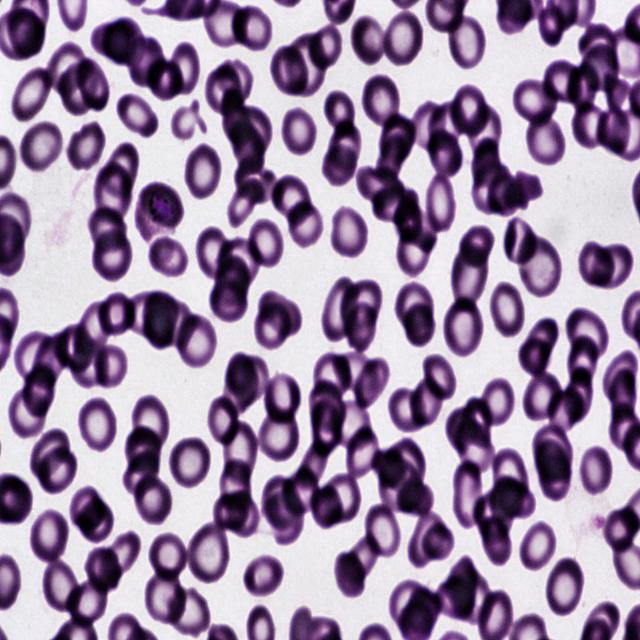difficult: (133, 179, 183, 246)
red blood cell: (376, 441, 427, 509), (516, 230, 562, 301), (260, 474, 306, 545), (389, 579, 442, 640), (220, 349, 266, 416), (334, 531, 380, 598), (92, 151, 134, 224), (435, 553, 479, 622), (310, 470, 362, 528), (362, 169, 414, 227), (185, 521, 231, 586), (139, 289, 187, 351), (15, 329, 62, 392), (286, 31, 330, 96), (442, 292, 484, 360), (8, 61, 56, 120), (450, 458, 487, 533), (162, 582, 210, 639), (380, 7, 424, 69), (521, 368, 568, 426), (0, 2, 47, 60), (524, 108, 570, 167), (545, 554, 587, 618), (311, 379, 344, 460), (19, 118, 65, 176), (128, 395, 172, 455), (320, 276, 360, 342), (215, 239, 262, 294), (392, 221, 438, 277), (518, 317, 560, 378), (168, 434, 212, 492), (174, 310, 217, 369), (160, 38, 203, 97), (255, 406, 299, 463), (406, 507, 447, 568), (377, 111, 414, 178), (130, 469, 173, 526), (487, 279, 527, 340), (512, 75, 558, 128), (226, 103, 272, 156), (41, 42, 87, 95), (77, 396, 119, 454), (360, 72, 402, 130), (454, 418, 498, 473), (361, 502, 402, 561), (28, 508, 70, 565), (269, 175, 314, 228), (40, 555, 81, 612), (472, 160, 516, 213), (55, 62, 98, 116), (409, 102, 449, 160), (74, 298, 114, 356), (351, 352, 389, 413), (492, 449, 528, 513), (452, 243, 489, 305), (148, 530, 190, 584), (262, 372, 304, 426), (183, 142, 222, 200), (447, 13, 488, 68), (329, 204, 369, 260), (223, 421, 258, 485), (222, 86, 258, 148), (142, 569, 184, 622), (310, 354, 354, 404), (229, 1, 272, 52), (66, 119, 105, 175), (91, 229, 132, 282), (256, 288, 302, 335), (350, 14, 390, 68), (115, 88, 158, 138), (7, 387, 50, 437), (467, 105, 501, 168), (100, 532, 142, 583), (577, 443, 615, 499), (244, 218, 284, 271), (88, 340, 128, 393), (565, 311, 610, 358), (499, 215, 538, 269), (103, 145, 142, 199), (449, 82, 491, 132), (106, 16, 146, 68), (519, 518, 556, 574), (385, 386, 429, 433), (489, 476, 538, 518), (476, 375, 514, 429), (130, 35, 168, 89), (76, 53, 109, 115), (30, 429, 70, 480), (54, 326, 96, 374), (280, 105, 318, 158), (38, 446, 79, 495), (341, 280, 381, 330), (418, 352, 457, 403), (601, 505, 640, 556), (428, 100, 467, 151), (233, 162, 278, 206), (331, 348, 377, 391), (535, 428, 573, 480), (568, 100, 610, 147), (478, 506, 512, 564), (537, 442, 571, 500), (354, 164, 402, 205), (209, 275, 249, 324), (280, 466, 319, 516), (208, 393, 244, 447), (286, 196, 322, 250), (602, 347, 638, 401), (272, 44, 308, 98), (424, 125, 462, 176), (582, 42, 620, 92), (304, 24, 342, 74), (542, 61, 581, 109), (196, 228, 230, 283), (345, 422, 378, 478), (593, 243, 634, 288), (87, 209, 126, 256), (96, 296, 138, 339), (64, 580, 106, 623), (233, 124, 269, 174), (125, 427, 164, 473), (394, 283, 432, 330), (253, 304, 290, 352), (426, 172, 454, 235), (144, 236, 188, 276), (320, 144, 359, 189), (471, 138, 506, 188), (324, 87, 361, 134), (578, 240, 615, 287), (243, 557, 284, 599), (168, 103, 208, 146), (228, 178, 263, 227), (207, 66, 242, 115), (547, 388, 585, 433), (220, 459, 252, 512), (563, 363, 592, 421), (90, 19, 130, 61), (121, 455, 160, 498), (500, 173, 545, 210), (85, 547, 121, 593), (578, 23, 620, 62), (597, 105, 631, 153), (216, 56, 253, 100), (78, 497, 114, 542), (566, 62, 598, 112), (461, 395, 495, 442), (225, 489, 258, 537), (345, 303, 377, 352), (567, 333, 599, 382), (70, 484, 104, 530), (212, 489, 248, 532), (487, 173, 523, 216), (413, 374, 444, 423), (446, 406, 478, 453), (330, 120, 360, 170), (460, 224, 495, 266), (406, 301, 437, 348), (146, 62, 184, 99), (422, 522, 454, 560), (537, 5, 565, 46)
